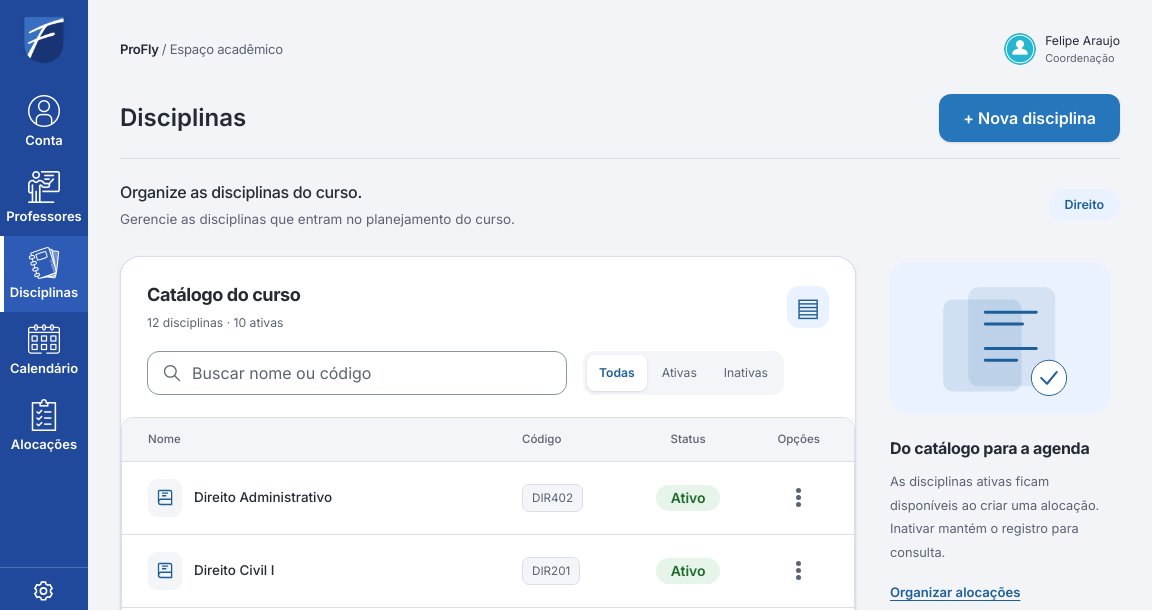
Test: Disciplinas › formulário › valida o tamanho mínimo e atualiza a mensagem ao digitar
Expected: the text "Direito Civil I" is shown, [148,552,274,590]
Step 1. Click the button "+ Nova disciplina" → (1030, 118), box [939,94,1120,142]
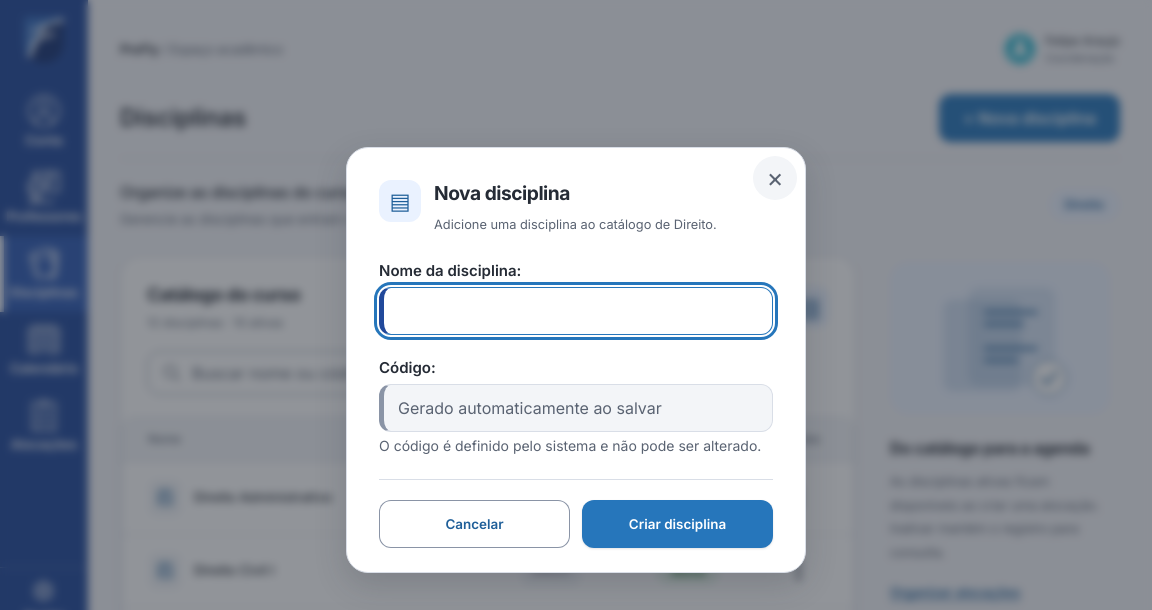
Step 2. Type "Ab" into the field labelled "Nome da disciplina:" → (578, 310), box [384,288,772,334]
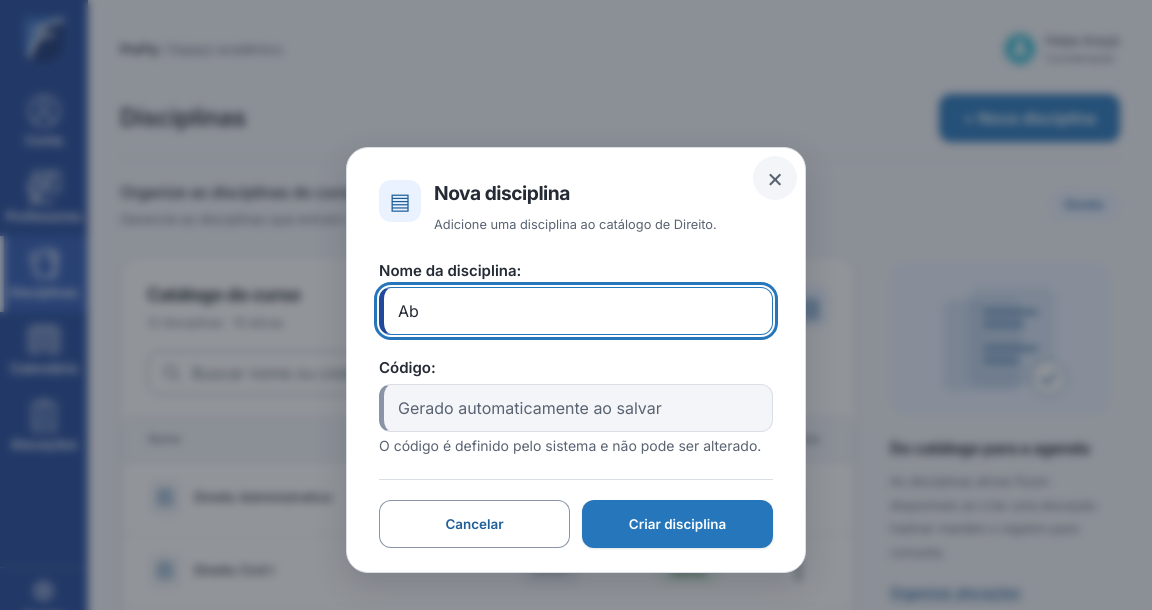
Step 3. Click the button "Criar disciplina" → (678, 524), box [582,500,773,548]
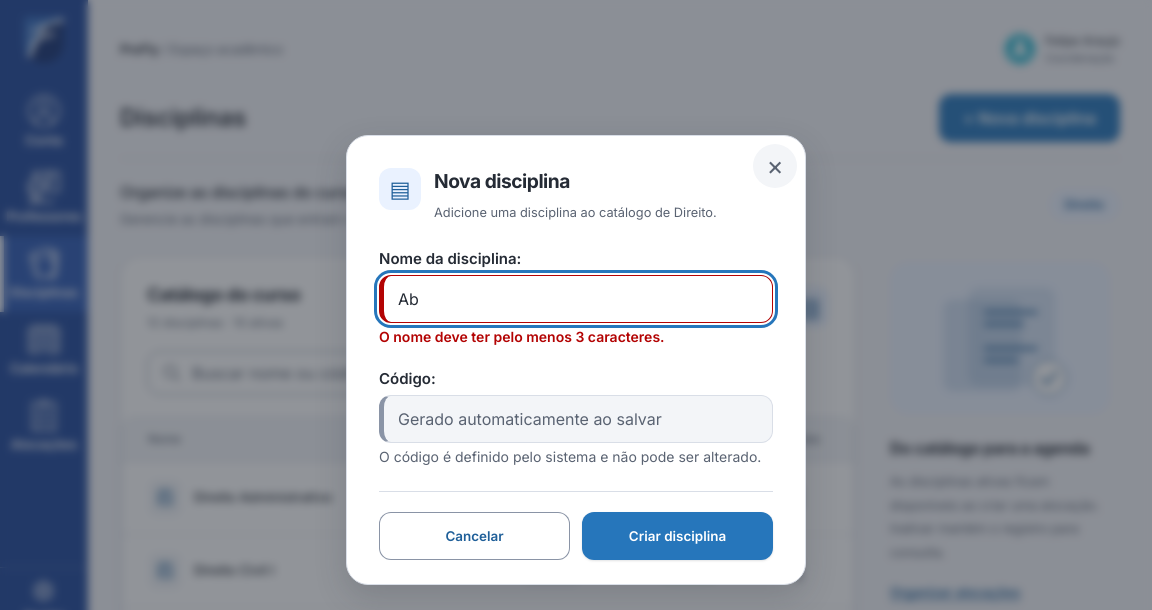
Expected: the text "O nome deve ter pelo menos 3 caracteres." is shown, [379,328,665,345]
Step 4. Type "c" into the field labelled "Nome da disciplina:" → (578, 299), box [384,276,772,322]
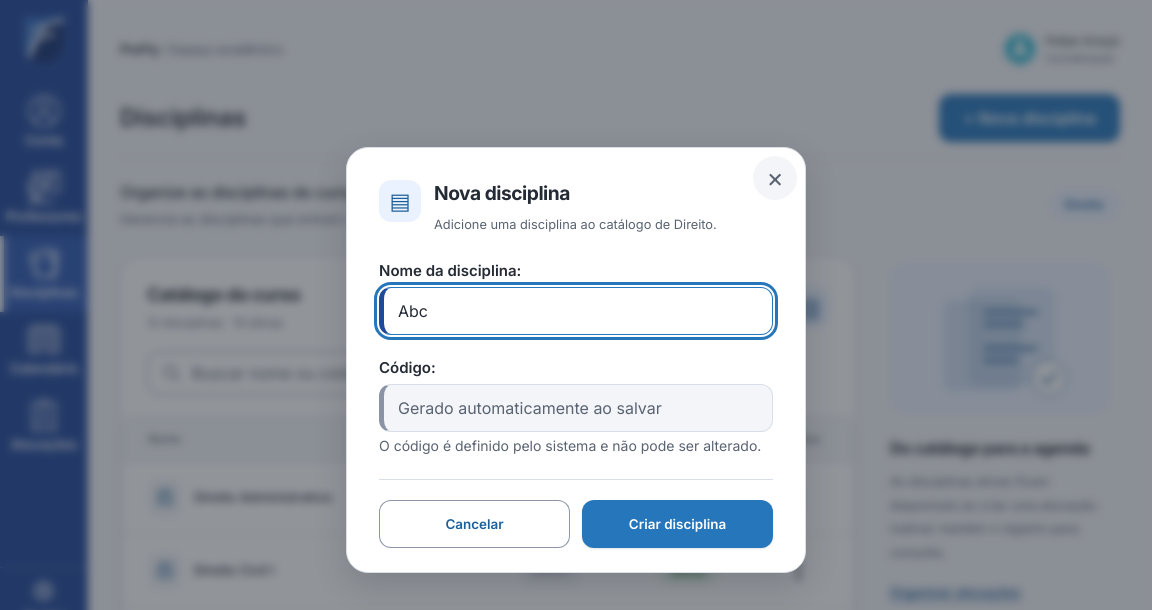
Expected: the text "pelo menos 3" is gone
